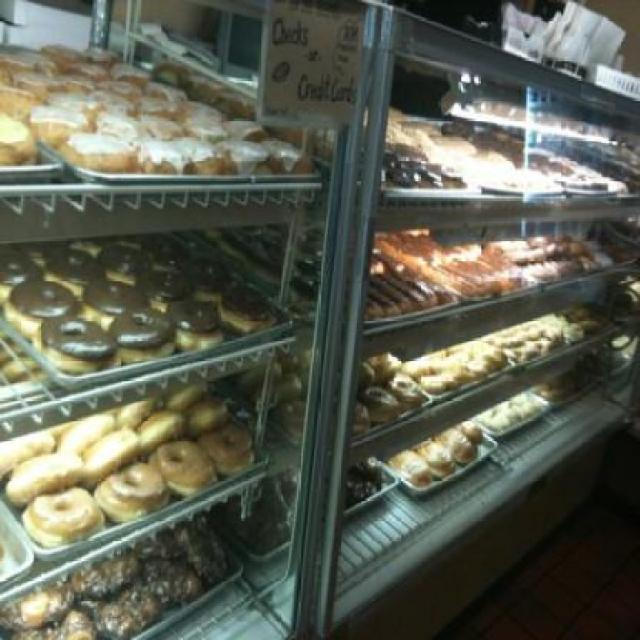Donuts: (3, 42, 640, 620)
